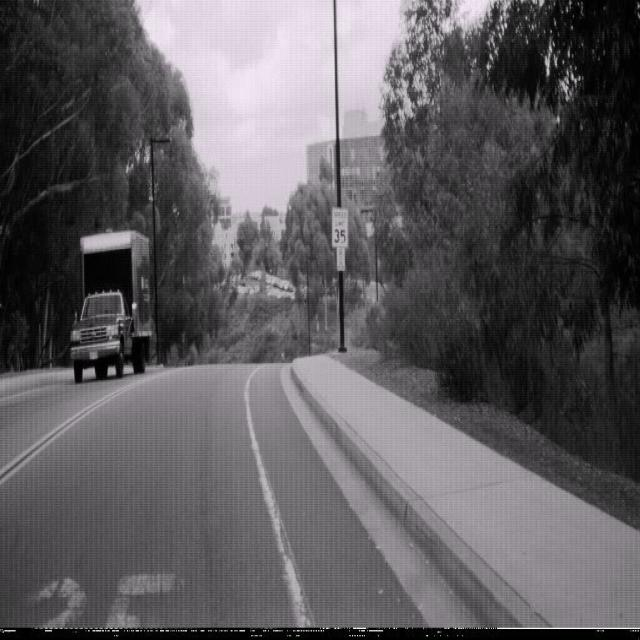speedLimit35: (331, 206, 348, 249)
